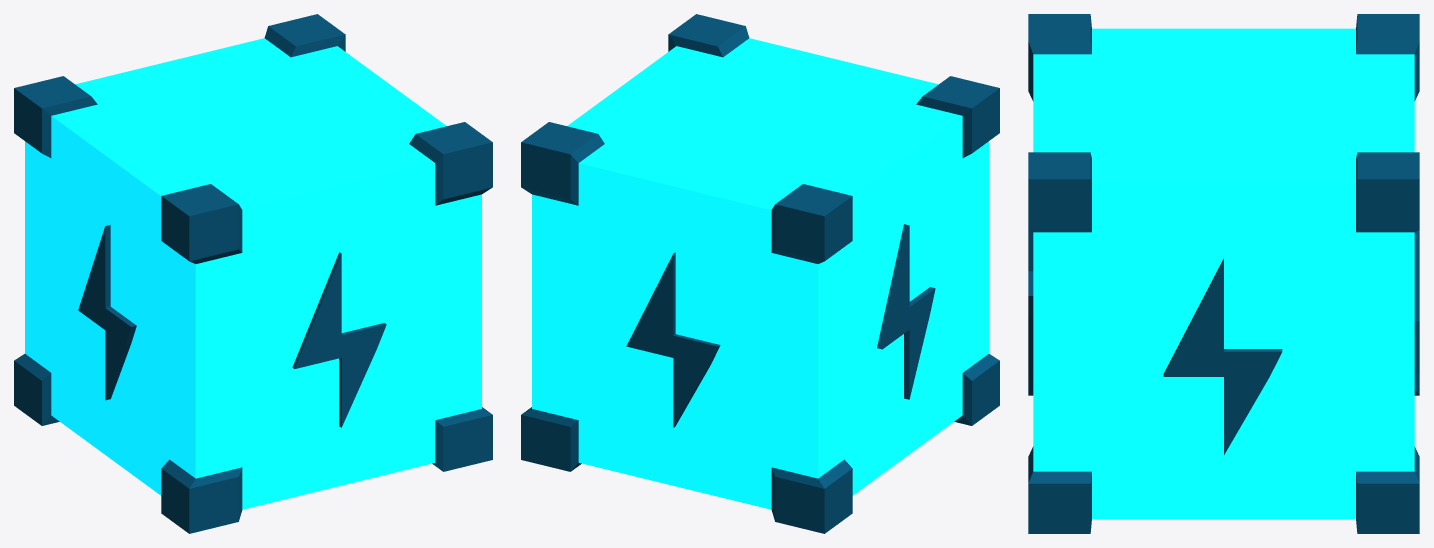
File: Energy_Cube.fbx
The picture shows the model from 3 angles, left to right: view 1: azimuth 30°, elevation 25°; view 2: azimuth 150°, elevation 25°; view 3: azimuth 270°, elevation 25°; orthographic projection. The views are drawn at different scales.
Visible parts, largest first — view 1: Cube.004; view 2: Cube.004; view 3: Cube.004.
Part boxes in pixels (x1,y1,x2,y2): Cube.004: (14,14,492,533); Cube.004: (521,14,999,533); Cube.004: (1028,14,1419,533).
Size of the model in its own units: 50 by 50 by 50.04.
